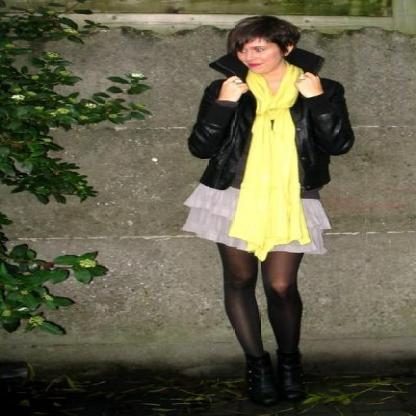jacket: (187, 47, 354, 199)
shoe: (241, 345, 304, 402)
skirt: (182, 183, 331, 254)
